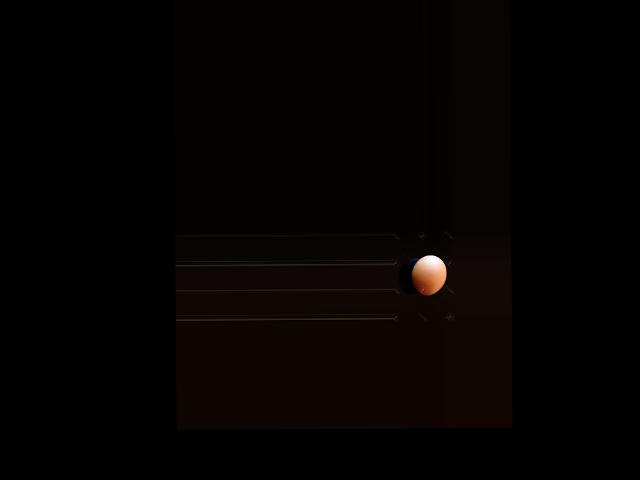egg: (410, 255, 446, 295)
